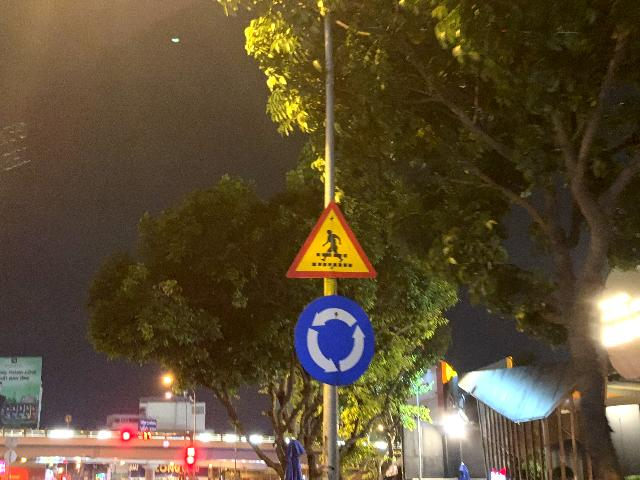duong-nguoi-di-bo-cat-ngang: (286, 198, 378, 279)
noi-giao-nhau-chay-theo-vong-xuyen: (294, 294, 375, 386)
